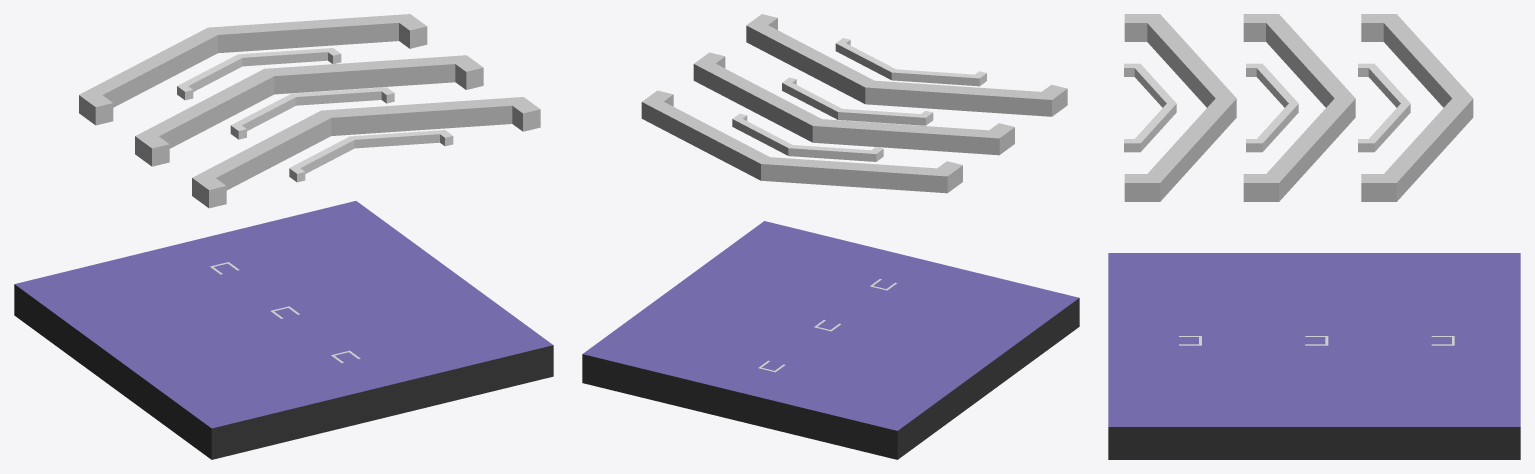
Rendered from road_5.fbx.
The picture shows the model from 3 angles, left to right: view 1: azimuth 30°, elevation 25°; view 2: azimuth 150°, elevation 25°; view 3: azimuth 270°, elevation 25°; orthographic projection. The views are drawn at different scales.
Parts seen in each view (by area): view 1: Road.005, Cube.120, Cube.119, Cube.117, Cube.123, Cube.121, Cube.122; view 2: Road.005, Cube.120, Cube.119, Cube.117, Cube.122, Cube.123, Cube.121; view 3: Road.005, Cube.117, Cube.119, Cube.120, Cube.121, Cube.122, Cube.123.
Part boxes in pixels (<box>): Road.005: <box>14,201,553,459</box>; Cube.120: <box>79,14,427,125</box>; Cube.119: <box>135,55,483,166</box>; Cube.117: <box>192,97,540,208</box>; Cube.123: <box>289,130,453,182</box>; Cube.121: <box>230,87,394,139</box>; Cube.122: <box>177,48,341,100</box>; Road.005: <box>582,221,1079,459</box>; Cube.120: <box>641,90,962,193</box>; Cube.119: <box>693,52,1014,155</box>; Cube.117: <box>746,14,1067,116</box>; Cube.122: <box>732,113,883,161</box>; Cube.123: <box>835,38,986,86</box>; Cube.121: <box>782,77,933,125</box>; Road.005: <box>1108,253,1520,459</box>; Cube.117: <box>1124,14,1236,201</box>; Cube.119: <box>1243,14,1355,201</box>; Cube.120: <box>1361,14,1473,201</box>; Cube.121: <box>1246,63,1298,152</box>; Cube.122: <box>1358,63,1410,152</box>; Cube.123: <box>1124,63,1176,152</box>.
Bounding box in the file's own units: 800 × 588 × 800.
